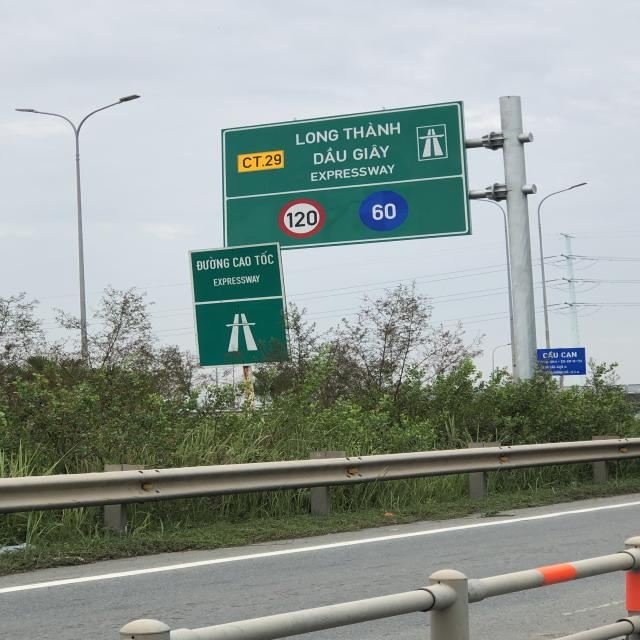Bien bao toc do toi thieu cho phep: (358, 187, 412, 234)
